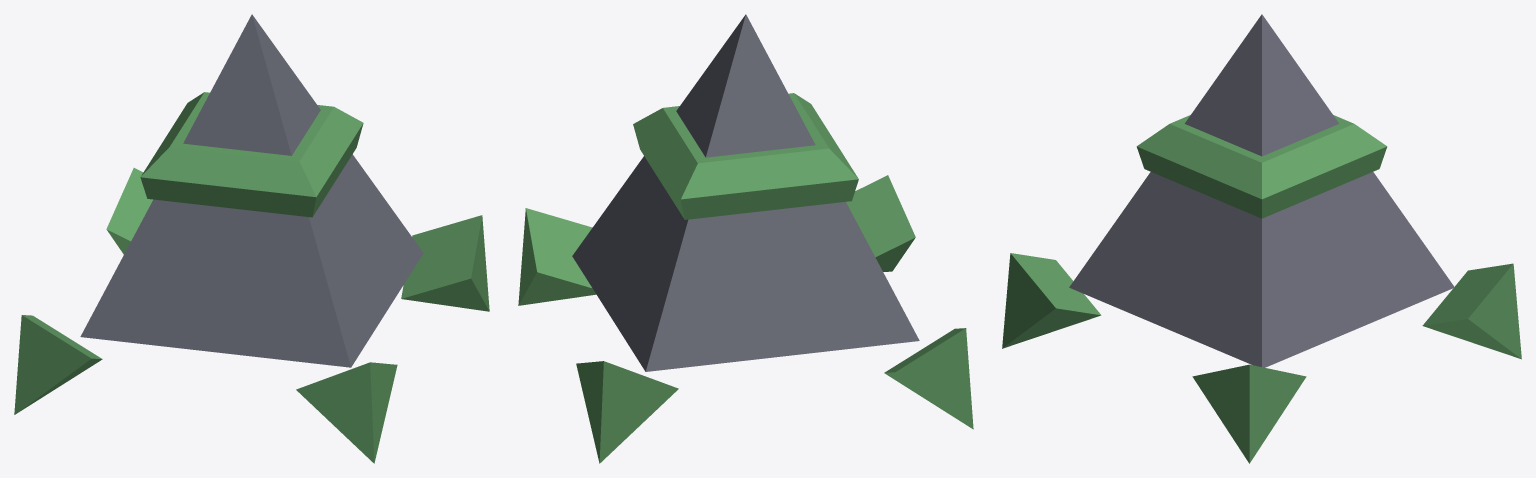
The model's file is cristal.fbx.
3 renders of one model, left to right at view 1: azimuth 30°, elevation 25°; view 2: azimuth 150°, elevation 25°; view 3: azimuth 270°, elevation 25°, orthographic. The views are drawn at different scales.
Visible parts, largest first — view 1: Poison_tower_LVL_4; view 2: Poison_tower_LVL_4; view 3: Poison_tower_LVL_4.
Boxes of the visible parts, left/top/right/bottom form: Poison_tower_LVL_4: left=14, top=14, right=489, bottom=463; Poison_tower_LVL_4: left=518, top=14, right=973, bottom=463; Poison_tower_LVL_4: left=1002, top=14, right=1521, bottom=463.
Bounding box in the file's own units: 409 × 296 × 409.
